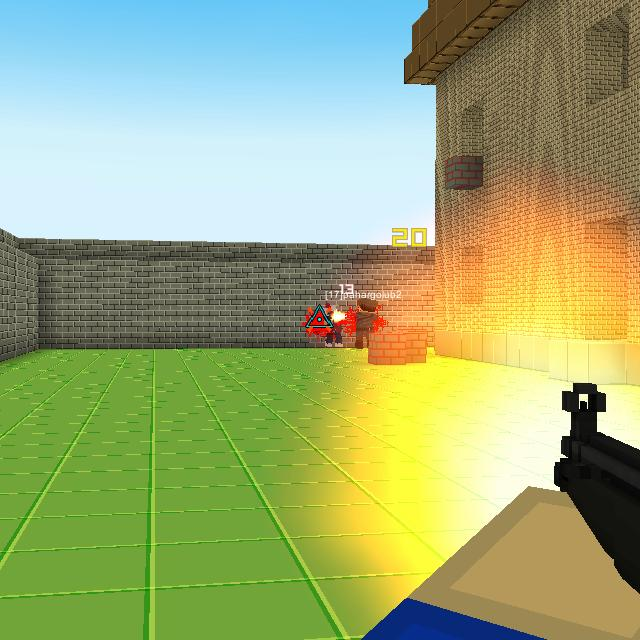enemy: (322, 302, 344, 348)
